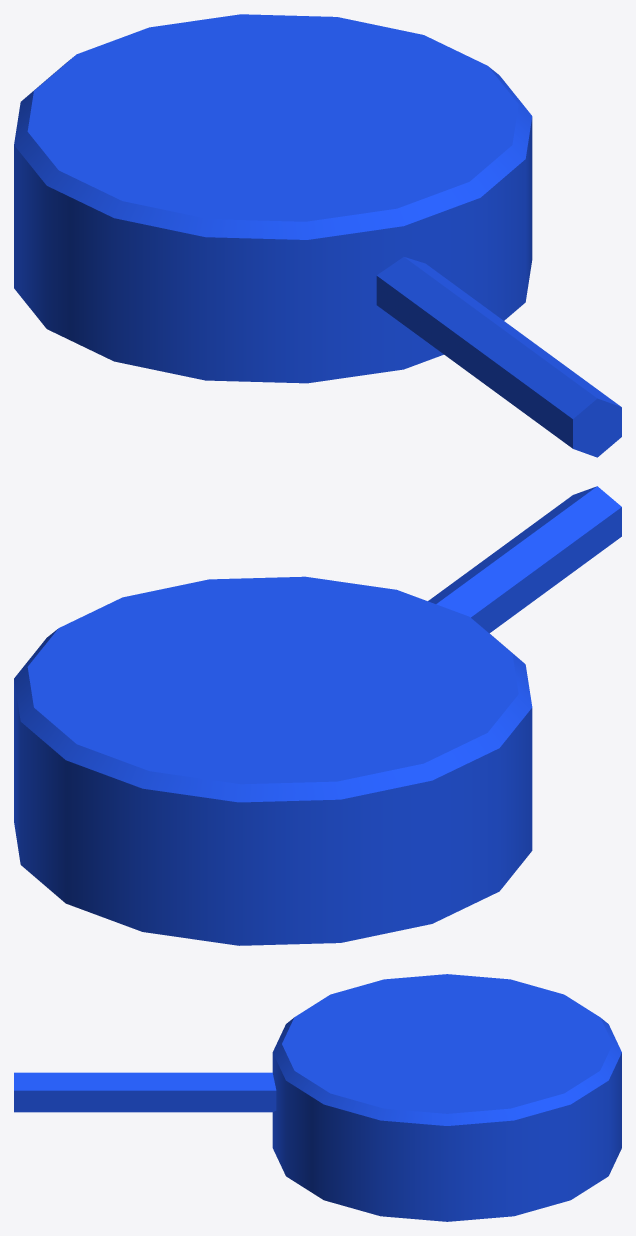
Rendered from SingleCannon.fbx.
The picture shows the model from 3 angles, top to bottom: view 1: azimuth 30°, elevation 25°; view 2: azimuth 150°, elevation 25°; view 3: azimuth 270°, elevation 25°; orthographic projection. The views are drawn at different scales.
Parts seen in each view (by area): view 1: Housing, Barrel; view 2: Housing, Barrel; view 3: Housing, Barrel.
Part boxes in pixels (box(x1,y1,x2,y2)): Housing: box(14, 14, 532, 383); Barrel: box(376, 257, 621, 457); Housing: box(14, 576, 532, 945); Barrel: box(428, 486, 621, 633); Housing: box(272, 974, 621, 1221); Barrel: box(14, 1072, 276, 1112).
Size of the model in its own units: 64 by 21.04 by 111.
Materials: 1 (1 with a texture image).
